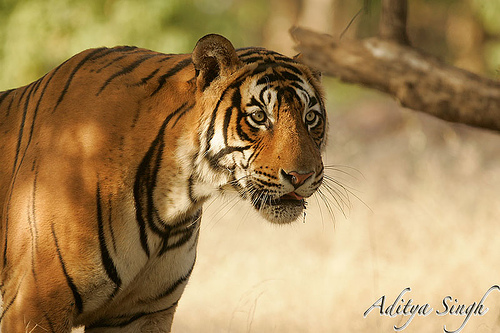Tigre: (16, 42, 325, 317)
